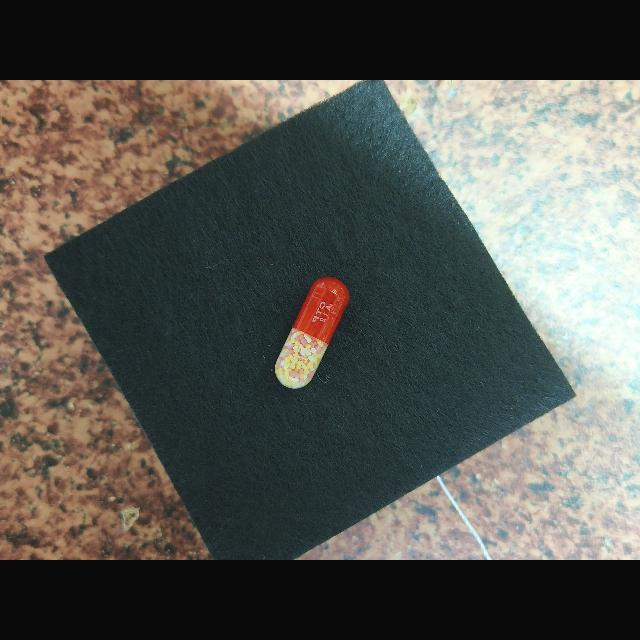Intact Capsule: (275, 277, 349, 389)
